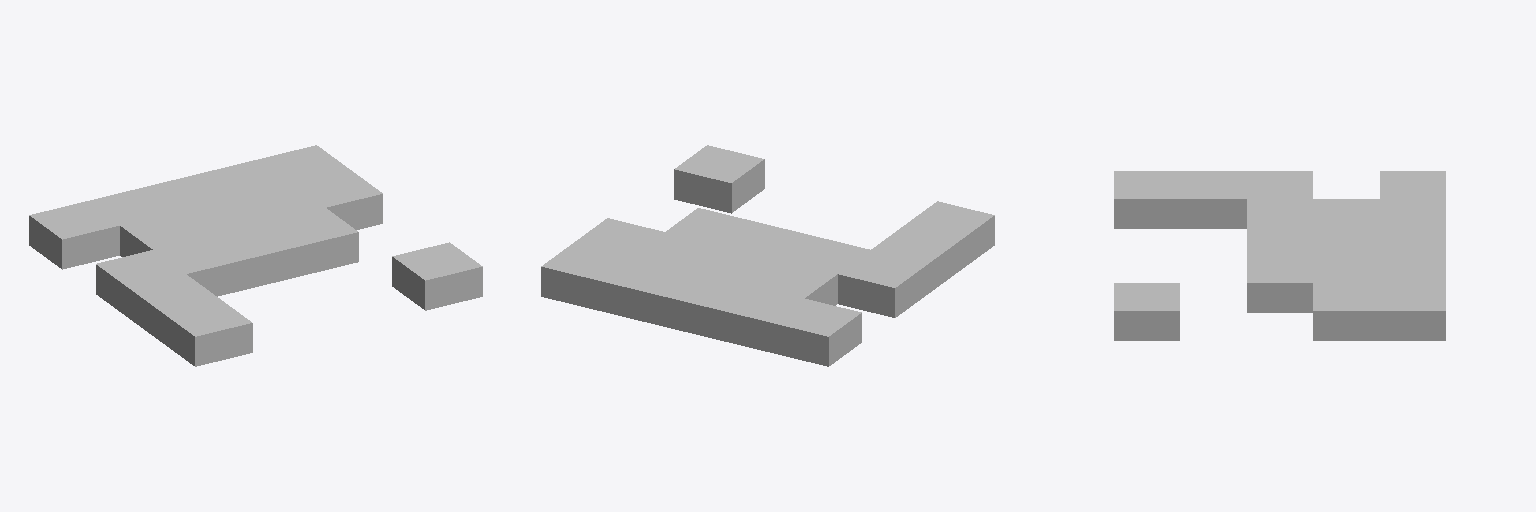
File: 82f_block.obj
The picture shows the model from 3 angles: view 1: azimuth 30°, elevation 25°; view 2: azimuth 150°, elevation 25°; view 3: azimuth 270°, elevation 25°; orthographic projection.
Visible parts, largest first — view 1: foil.block.0.4_block.5326, foil.block.4.0_block.5336, foil.block.0.0_block.5322, foil.block.3.2_block.5333, foil.block.2.2_block.5330, foil.block.1.2_block.5327, foil.block.4.3_block.5337, foil.block.0.2_block.5324, foil.block.0.1_block.5323, foil.block.1.3_block.5328, foil.block.2.4_block.5332, foil.block.3.3_block.5334 (+4 smaller); view 2: foil.block.0.4_block.5326, foil.block.4.0_block.5336, foil.block.0.2_block.5324, foil.block.4.4_block.5338, foil.block.2.4_block.5332, foil.block.1.4_block.5329, foil.block.3.4_block.5335, foil.block.0.1_block.5323, foil.block.0.0_block.5322, foil.block.1.3_block.5328, foil.block.2.3_block.5331, foil.block.3.2_block.5333 (+4 smaller); view 3: foil.block.0.1_block.5323, foil.block.4.3_block.5337, foil.block.0.0_block.5322, foil.block.3.2_block.5333, foil.block.4.0_block.5336, foil.block.4.4_block.5338, foil.block.1.3_block.5328, foil.block.2.3_block.5331, foil.block.3.3_block.5334, foil.block.0.2_block.5324, foil.block.0.4_block.5326, foil.block.1.2_block.5327 (+4 smaller).
Boxes of the visible parts, x1=… form: foil.block.0.4_block.5326: x1=29, y1=201, x2=119, y2=269; foil.block.4.0_block.5336: x1=392, y1=242, x2=482, y2=310; foil.block.0.0_block.5322: x1=162, y1=298, x2=252, y2=366; foil.block.3.2_block.5333: x1=269, y1=208, x2=358, y2=275; foil.block.2.2_block.5330: x1=212, y1=222, x2=300, y2=289; foil.block.1.2_block.5327: x1=154, y1=236, x2=243, y2=296; foil.block.4.3_block.5337: x1=293, y1=169, x2=382, y2=229; foil.block.0.2_block.5324: x1=96, y1=250, x2=184, y2=317; foil.block.0.1_block.5323: x1=129, y1=274, x2=218, y2=341; foil.block.1.3_block.5328: x1=120, y1=212, x2=209, y2=256; foil.block.2.4_block.5332: x1=145, y1=173, x2=234, y2=210; foil.block.3.3_block.5334: x1=235, y1=183, x2=324, y2=221; foil.block.0.4_block.5326: x1=771, y1=298, x2=861, y2=366; foil.block.4.0_block.5336: x1=674, y1=145, x2=764, y2=213; foil.block.0.2_block.5324: x1=838, y1=250, x2=927, y2=317; foil.block.4.4_block.5338: x1=541, y1=242, x2=631, y2=310; foil.block.2.4_block.5332: x1=656, y1=270, x2=746, y2=338; foil.block.1.4_block.5329: x1=714, y1=285, x2=803, y2=352; foil.block.3.4_block.5335: x1=599, y1=257, x2=688, y2=324; foil.block.0.1_block.5323: x1=871, y1=226, x2=961, y2=293; foil.block.0.0_block.5322: x1=904, y1=201, x2=994, y2=268; foil.block.1.3_block.5328: x1=747, y1=260, x2=837, y2=305; foil.block.2.3_block.5331: x1=690, y1=246, x2=779, y2=283; foil.block.3.2_block.5333: x1=666, y1=208, x2=754, y2=245; foil.block.0.1_block.5323: x1=1180, y1=171, x2=1246, y2=228; foil.block.4.3_block.5337: x1=1313, y1=283, x2=1379, y2=340; foil.block.0.0_block.5322: x1=1114, y1=171, x2=1179, y2=228; foil.block.3.2_block.5333: x1=1247, y1=255, x2=1312, y2=312; foil.block.4.0_block.5336: x1=1114, y1=283, x2=1179, y2=340; foil.block.4.4_block.5338: x1=1380, y1=283, x2=1445, y2=340; foil.block.1.3_block.5328: x1=1313, y1=199, x2=1379, y2=226; foil.block.2.3_block.5331: x1=1313, y1=227, x2=1379, y2=254; foil.block.3.3_block.5334: x1=1313, y1=255, x2=1379, y2=282; foil.block.0.2_block.5324: x1=1247, y1=171, x2=1312, y2=198; foil.block.0.4_block.5326: x1=1380, y1=171, x2=1445, y2=198; foil.block.1.2_block.5327: x1=1247, y1=199, x2=1312, y2=226.
Size of the model in its own units: 10 by 1 by 10.